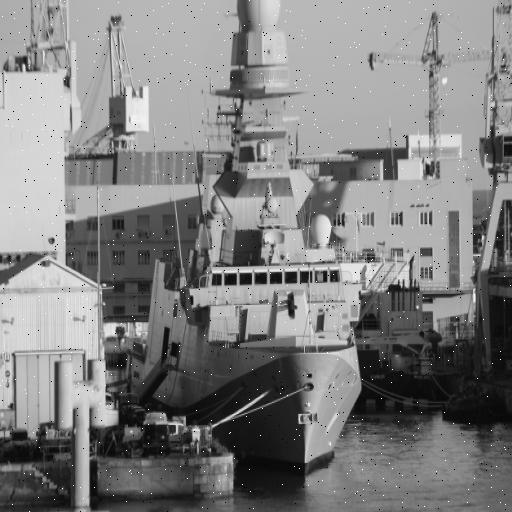Fragata: (166, 1, 364, 490)
